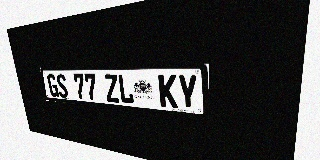7: (84, 74, 99, 101), (73, 74, 87, 100)
G: (47, 74, 59, 97)
K: (158, 74, 178, 108)
L: (117, 74, 134, 104)
S: (55, 74, 69, 98)
Y: (177, 74, 198, 110)
Z: (104, 74, 120, 103)
